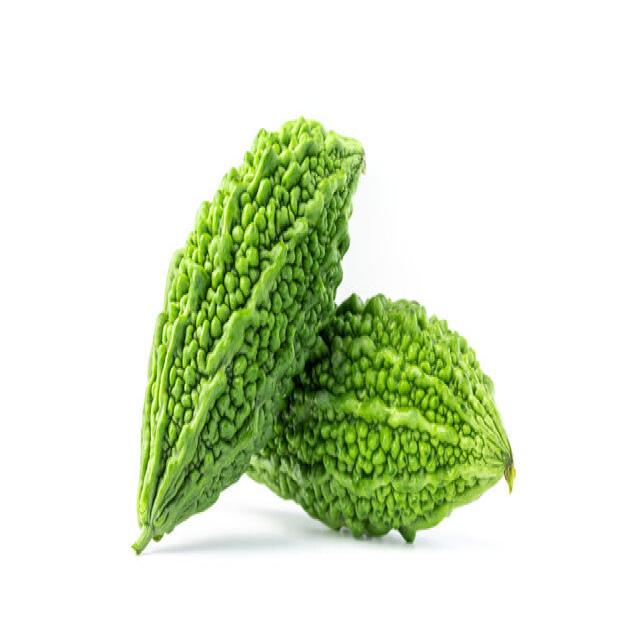Bitter_Gourd: (131, 114, 515, 553)
